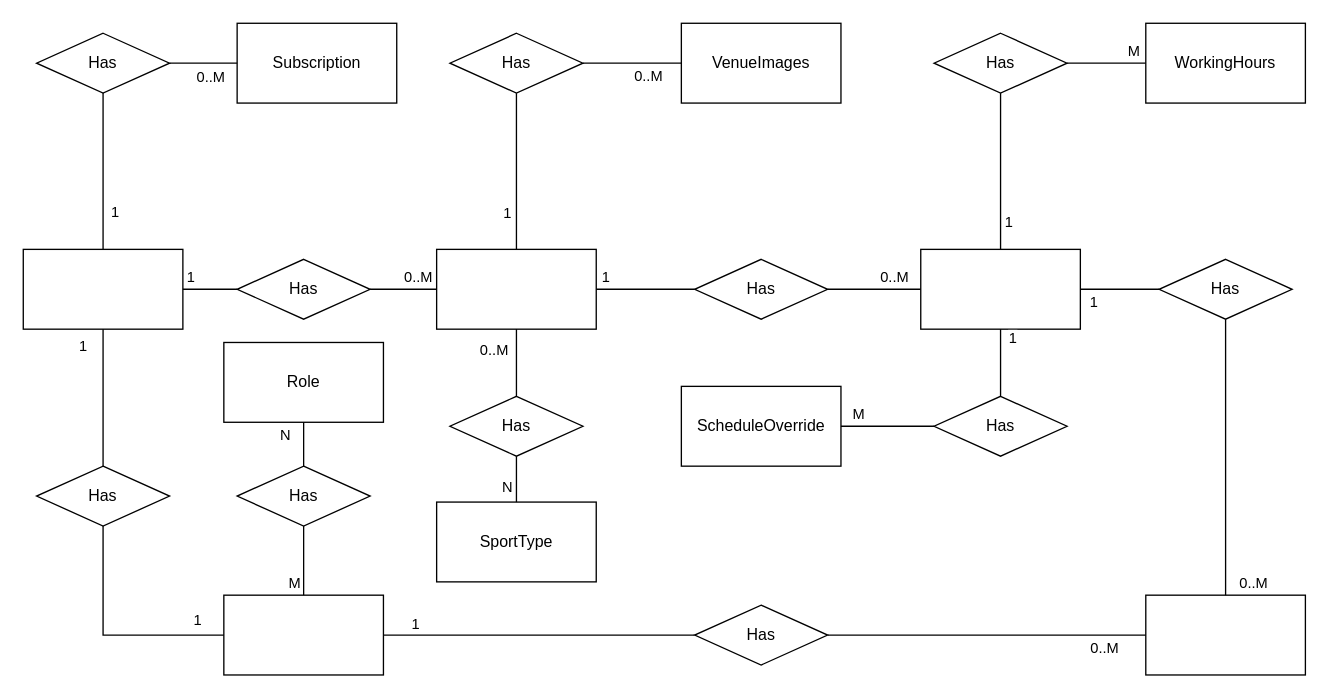
The diagram is 1329 pixels wide and 698 high, and some of its shapes have lost their labels. The centre of each missing label's shape, as x and y in pixels:
"Booking" belongs at pixel 1224 634.
"Resource" belongs at pixel 999 288.
"Tenant" belongs at pixel 102 288.
"User" belongs at pixel 303 634.
"Venue" belongs at pixel 515 288.
